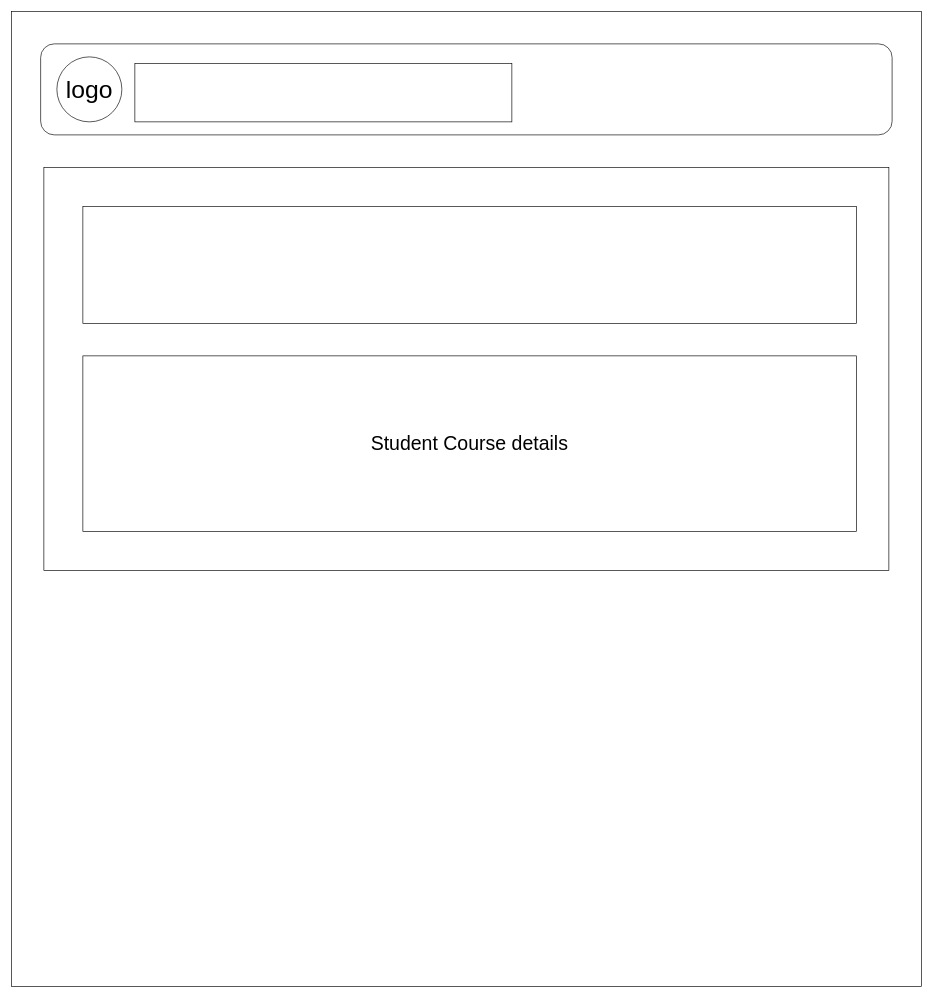
Image size: 933x998. Some labels were removed from this diagram. The shapes that lost their labels are listed below. From the top down, each one's box as (x1, y1, x2, y2) in pixels, then its label:
(134, 63, 512, 122): University name
(82, 206, 856, 323): Student Id Branch
